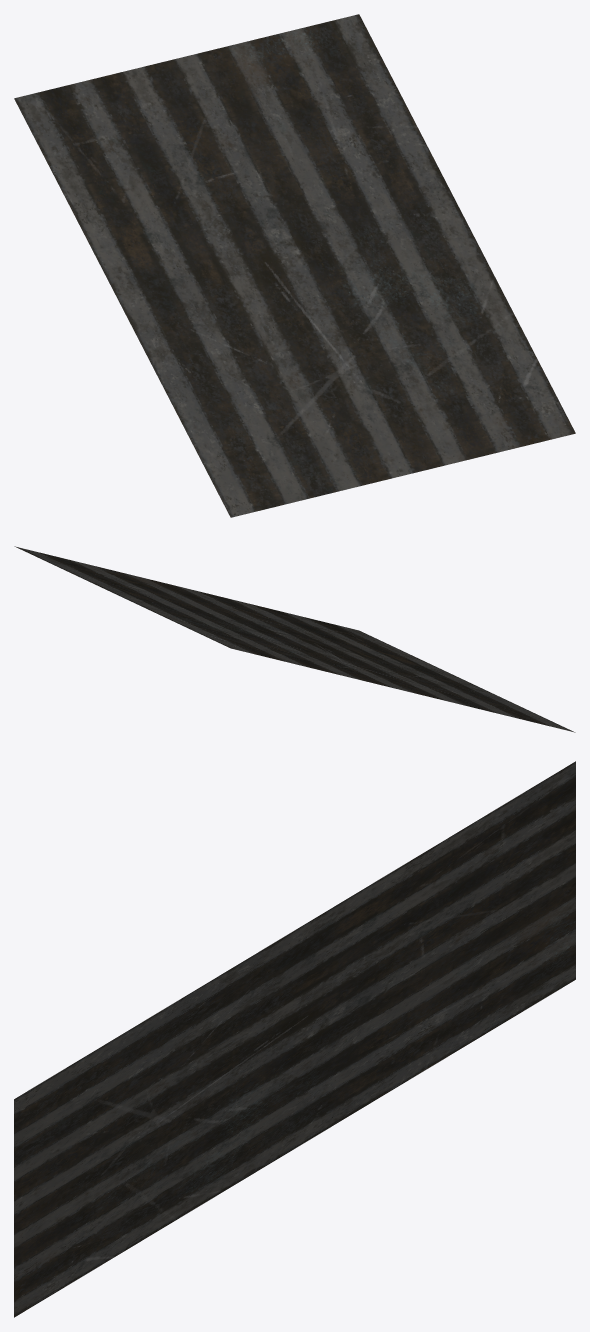
Rendered from roof2x.fbx.
The picture shows the model from 3 angles, top to bottom: view 1: azimuth 30°, elevation 25°; view 2: azimuth 150°, elevation 25°; view 3: azimuth 270°, elevation 25°; orthographic projection. The views are drawn at different scales.
Parts seen in each view (by area): view 1: roof2x; view 2: roof2x; view 3: roof2x.
Part boxes in pixels (x1,y1,x2,y2): roof2x: (14,14,575,517); roof2x: (14,546,575,732); roof2x: (14,761,575,1317).
Bounding box in the file's own units: 200 × 144 × 217.
